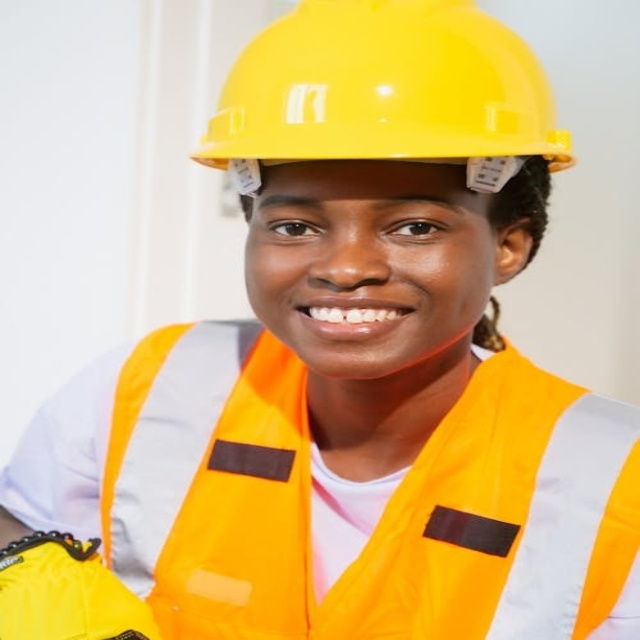Guantes: (1, 531, 167, 639)
Sin_gafas: (252, 196, 458, 264)
Sin_mascara: (280, 289, 425, 365)
